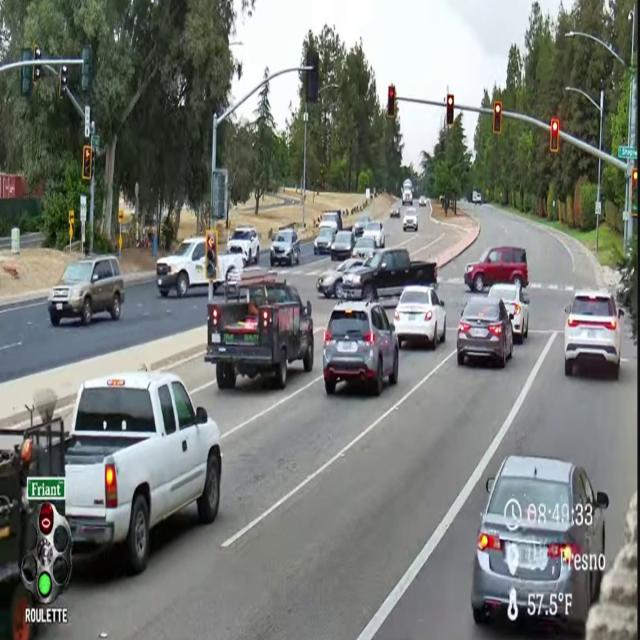car: (471, 456, 608, 636), (323, 302, 398, 395), (48, 256, 124, 326), (564, 290, 623, 378), (457, 296, 513, 367), (394, 286, 446, 349), (464, 247, 528, 292), (488, 284, 529, 343), (317, 258, 364, 297), (227, 226, 259, 264), (270, 228, 300, 266), (331, 231, 355, 261), (314, 225, 336, 255), (363, 221, 385, 247), (352, 237, 375, 259), (320, 210, 343, 231), (353, 213, 371, 238), (403, 208, 418, 231), (390, 207, 400, 218), (418, 196, 426, 207)
traffic signal: (306, 50, 319, 103), (205, 230, 217, 281), (21, 48, 32, 96), (81, 45, 92, 91), (82, 145, 92, 180), (550, 118, 559, 152), (493, 101, 502, 135), (632, 167, 638, 217), (387, 85, 396, 118), (59, 65, 68, 98), (446, 95, 454, 126), (32, 64, 41, 82), (632, 168, 637, 187)
truck: (64, 370, 221, 573), (0, 413, 65, 639), (205, 271, 313, 390), (342, 248, 437, 301), (156, 237, 209, 297), (402, 179, 413, 205), (472, 191, 482, 204)
